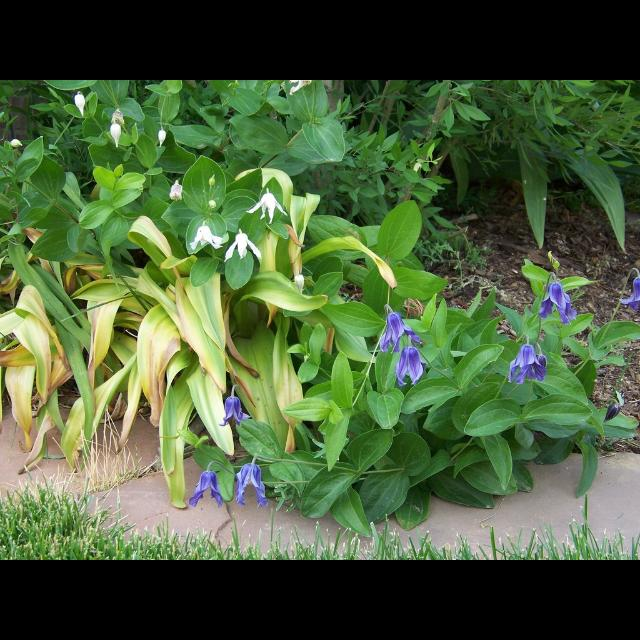Flower: (380, 304, 420, 352), (538, 280, 576, 324), (236, 463, 268, 507), (245, 192, 289, 224), (508, 343, 542, 383), (190, 470, 224, 508), (394, 344, 424, 386), (224, 234, 262, 262), (218, 396, 252, 426), (190, 224, 222, 250), (616, 276, 640, 310), (72, 94, 88, 116), (110, 124, 124, 148), (604, 404, 622, 420), (168, 184, 184, 200), (293, 274, 305, 294), (534, 354, 548, 368), (158, 130, 168, 146), (10, 138, 24, 148)
